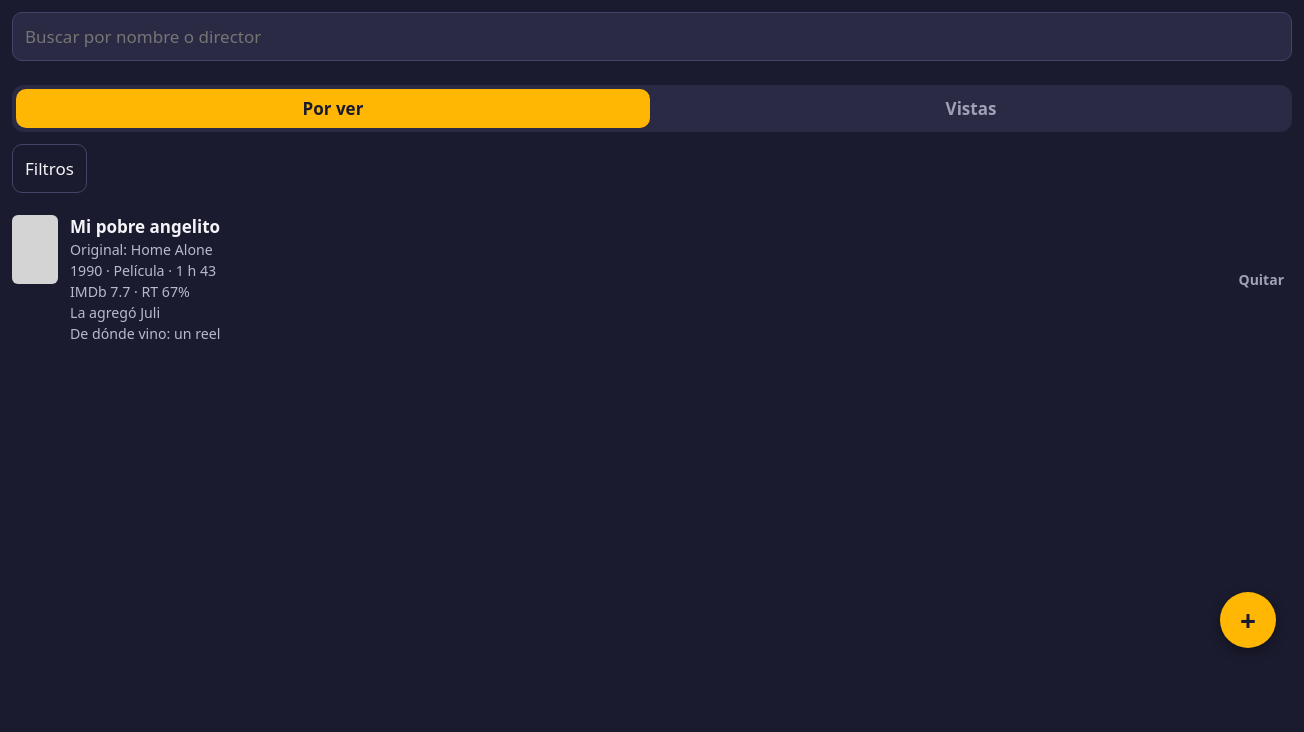
Test: in Por ver the card shows how long it lasts, and Vistas does not
The width and height of the screenshot is (1304, 732).
Check: the text "1990 · Película · 1 h 43" is shown, box [70,261,220,280]
Click the button "Vistas". click: (971, 108)
box: [654,89,1288,128]
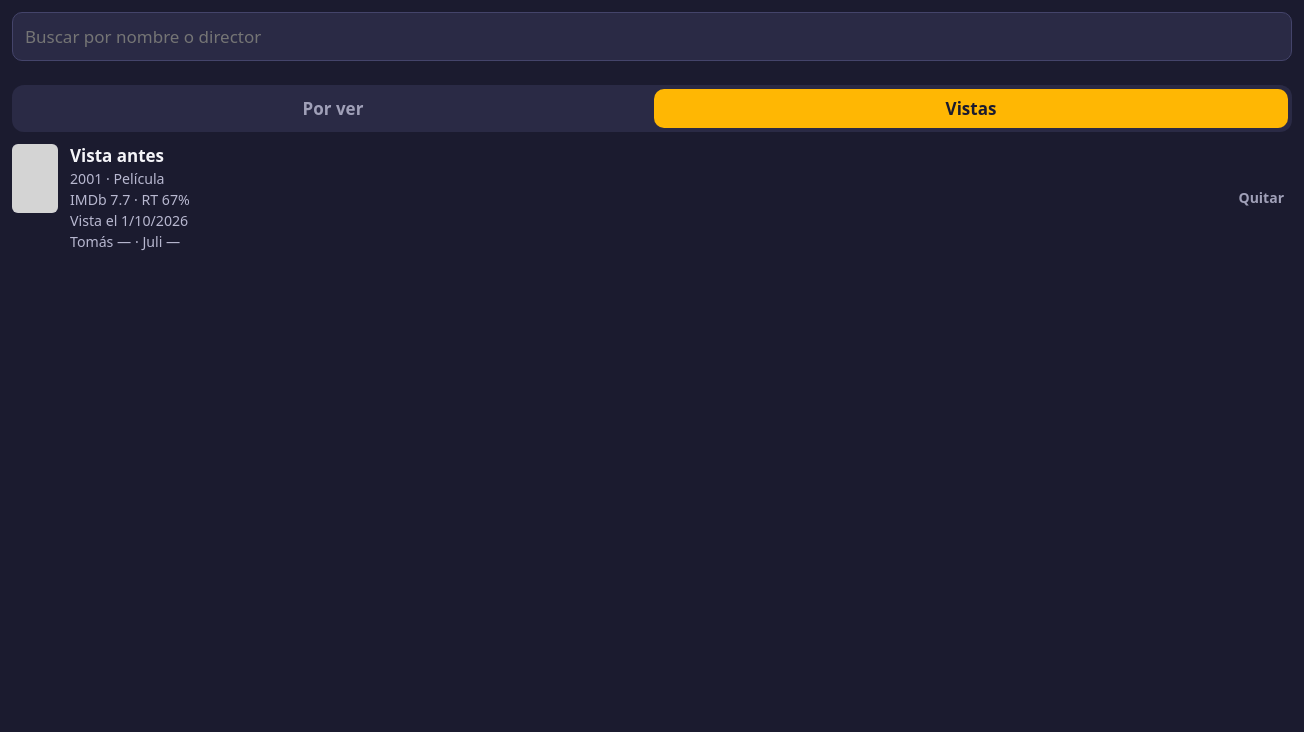
Check: the text "2001 · Película" is shown, box [70,169,164,188]
